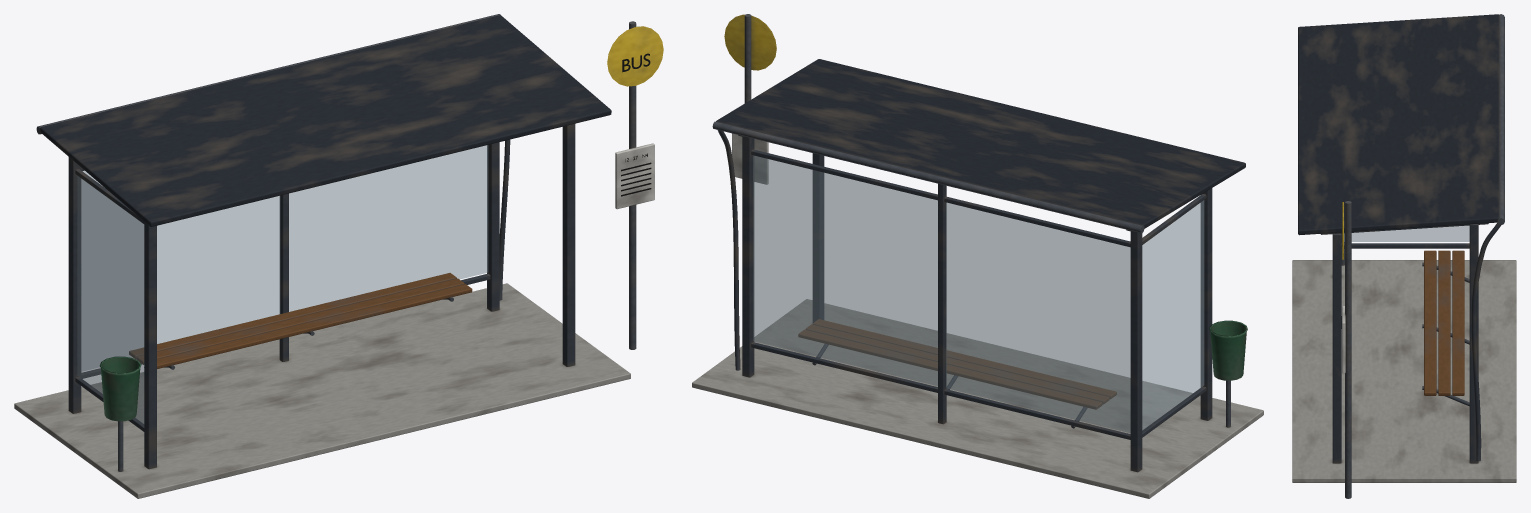
File: ul_przystanek.glb
The picture shows the model from 3 angles, left to right: view 1: azimuth 30°, elevation 25°; view 2: azimuth 150°, elevation 25°; view 3: azimuth 270°, elevation 25°; orthographic projection. The views are drawn at different scales.
Parts seen in each view (by area): view 1: Wiata, Szyba; view 2: Wiata, Szyba; view 3: Wiata, Szyba.
Part boxes in pixels (<box>): Wiata: <box>14,14,663,498</box>; Szyba: <box>77,145,488,423</box>; Wiata: <box>692,14,1263,498</box>; Szyba: <box>753,155,1204,432</box>; Wiata: <box>1292,14,1516,498</box>; Szyba: <box>1344,225,1469,241</box>.
Size of the model in its own units: 5.23 by 2.9 by 2.
3 materials, 1 textured.
